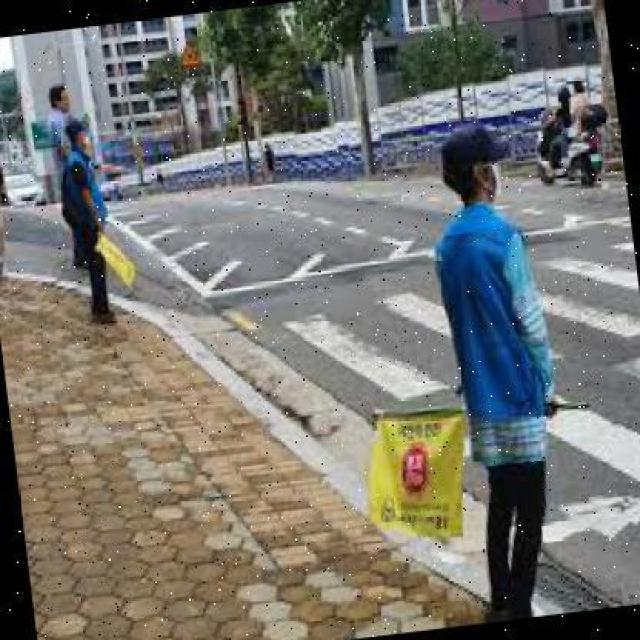Person: (420, 119, 578, 619), (59, 110, 124, 325), (42, 80, 98, 266)
